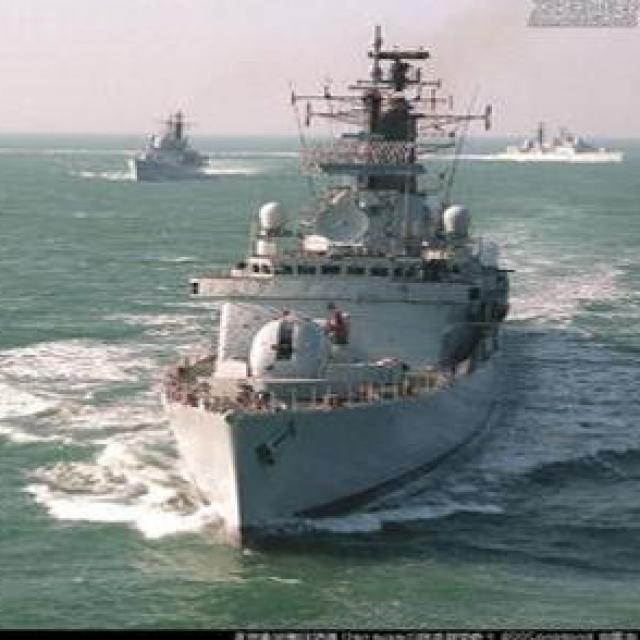navalvessels: (162, 32, 505, 551), (125, 106, 206, 182), (501, 120, 628, 162)
